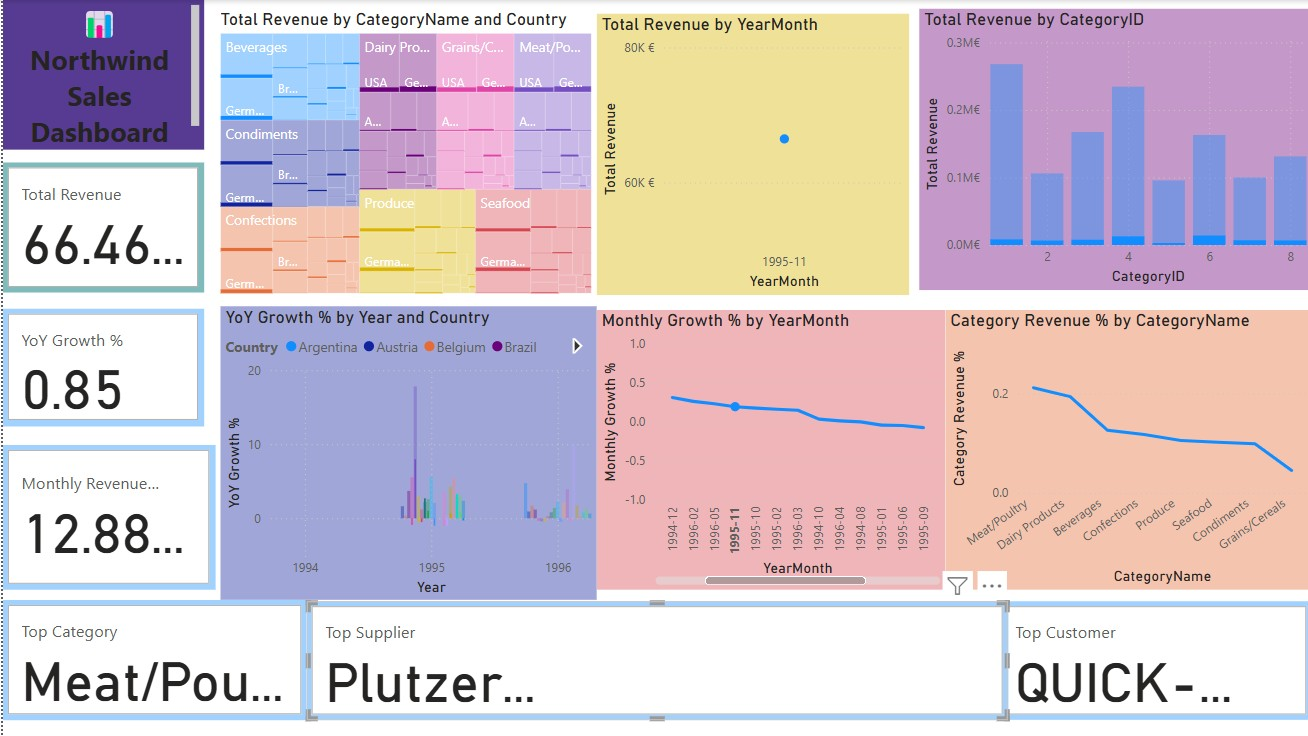

What the dashboard file says about the page in this screenshot:
{"tool":"powerbi","page":{"name":"Page 1","canvas":[1280,720],"ordinal":0},"visuals":[{"type":"lineChart","fields":{"Category":["DateTable.YearMonth"],"Y":["Order Details.Monthly Growth %"]},"box":[580.8,303.3,341.2,273.9],"z":0},{"type":"lineChart","fields":{"Category":["DateTable.YearMonth"],"Y":["Order Details.Total Revenue"]},"box":[580.8,13.5,305.7,275.1],"z":1000},{"type":"cardVisual","fields":{"Data":["Order Details.Top Category"]},"box":[0,587,297.1,117.4],"z":1003},{"type":"columnChart","fields":{"Category":["Products.CategoryID"],"Y":["Order Details.Total Revenue"]},"box":[896.3,8.6,384,275.1],"z":1004},{"type":"treemap","fields":{"Group":["Category Sales for 1995.CategoryName"],"Details":["Customers.Country"],"Values":["Order Details.Total Revenue"]},"box":[207.9,8.6,373,283.7],"z":1005},{"type":"lineChart","fields":{"Y":["Order Details.Category Revenue %"],"Category":["Categories.CategoryName"]},"box":[922,303.3,358.3,273.9],"z":1006},{"type":"cardVisual","fields":{"Data":["Order Details.YoY Growth %"]},"box":[0,302,196.9,114.9],"z":1007},{"type":"cardVisual","fields":{"Data":["Order Details.Total Revenue"]},"box":[0,159,196.9,127.2],"z":1008},{"type":"cardVisual","fields":{"Data":["Order Details.Monthly Revenue (Current Month)"]},"box":[0,435.3,207.9,141.8],"z":1009},{"type":"cardVisual","fields":{"Data":["Order Details.Top Customer"]},"box":[972.2,588.2,308.2,116.2],"z":1010},{"type":"cardVisual","fields":{"Data":["Order Details.Top Supplier"]},"box":[297.1,588.2,686,116.2],"z":1011},{"type":"clusteredColumnChart","fields":{"Category":["DateTable.Year"],"Series":["Customers.Country"],"Y":["Order Details.YoY Growth %"]},"box":[212.8,299.6,368.1,287.4],"z":1012},{"type":"textbox","box":[0,0,196.9,146.7],"z":1013}]}

Visuals, with their boxes in screenshot pixels (x1, y1, x2, y2), scaled from the page's 1280x720 canvas onto the 1308x736 screenshot:
lineChart - DateTable.YearMonth x Order Details.Monthly Growth %: box=[594, 310, 942, 590]
lineChart - DateTable.YearMonth x Order Details.Total Revenue: box=[594, 14, 906, 295]
cardVisual - Order Details.Top Category: box=[0, 600, 304, 720]
columnChart - Products.CategoryID x Order Details.Total Revenue: box=[916, 9, 1307, 290]
treemap - Category Sales for 1995.CategoryName x Customers.Country: box=[212, 9, 594, 299]
lineChart - Order Details.Category Revenue % x Categories.CategoryName: box=[942, 310, 1307, 590]
cardVisual - Order Details.YoY Growth %: box=[0, 309, 201, 426]
cardVisual - Order Details.Total Revenue: box=[0, 163, 201, 293]
cardVisual - Order Details.Monthly Revenue (Current Month): box=[0, 445, 212, 590]
cardVisual - Order Details.Top Customer: box=[993, 601, 1307, 720]
cardVisual - Order Details.Top Supplier: box=[304, 601, 1005, 720]
clusteredColumnChart - DateTable.Year x Customers.Country: box=[217, 306, 594, 600]
textbox: box=[0, 0, 201, 150]
